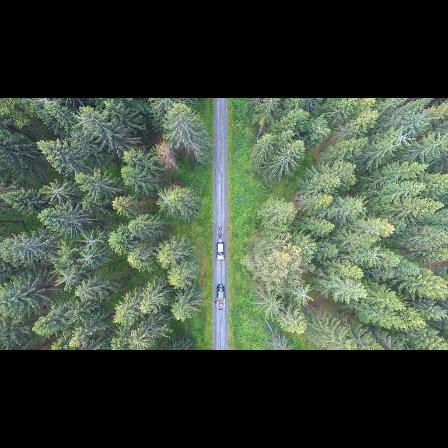Sick: (41, 176, 69, 203), (76, 246, 101, 271), (78, 229, 104, 253), (292, 280, 316, 306), (363, 244, 386, 266), (391, 126, 414, 148), (155, 188, 175, 210)
